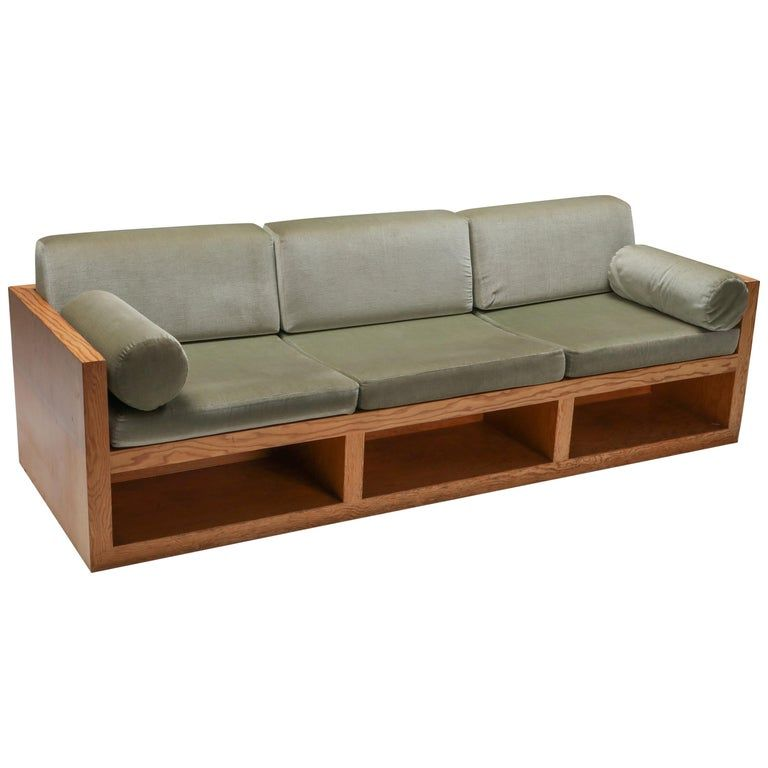3seatersofa: (9, 196, 758, 570)
backrest: (37, 195, 634, 340)
leftarmrest: (609, 245, 745, 330)
leg: (10, 276, 759, 570)
rightarmrest: (63, 290, 187, 410)
seat: (112, 297, 738, 447)
